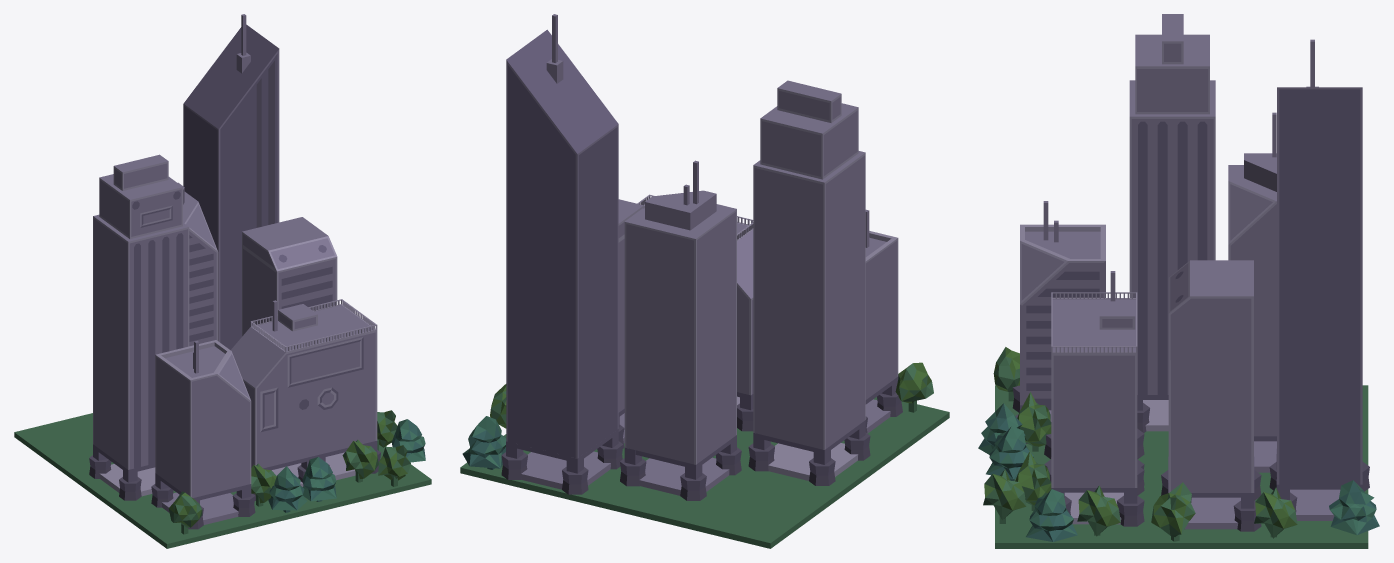
File: Apartment(deneme32).fbx
3 views of the same model, side by side, from view 1: azimuth 30°, elevation 25°; view 2: azimuth 150°, elevation 25°; view 3: azimuth 270°, elevation 25° (orthographic). The views are drawn at different scales.
Parts seen in each view (by area): view 1: Apartment2(Elevated), Apartment6(Elevated), Apartment4(Elevated), Apartment(Ground), Apartment1(Elevated), Apartment5(Elevated), Apartment3(Elevated), Apartments(SeismicIsolators); view 2: Apartment4(Elevated), Apartment2(Elevated), Apartment3(Elevated), Apartment(Ground), Apartment1(Elevated), Apartments(SeismicIsolators), Apartment6(Elevated), Apartment5(Elevated); view 3: Apartment4(Elevated), Apartment(Ground), Apartment2(Elevated), Apartment5(Elevated), Apartment6(Elevated), Apartment3(Elevated), Apartment1(Elevated), Apartments(SeismicIsolators).
Part boxes in pixels (box(x1,y1,x2,y2)): Apartment2(Elevated): box(93, 154, 189, 496); Apartment6(Elevated): box(230, 299, 377, 486); Apartment4(Elevated): box(183, 14, 279, 349); Apartment(Ground): box(14, 410, 431, 548); Apartment1(Elevated): box(155, 340, 251, 524); Apartment5(Elevated): box(242, 217, 337, 336); Apartment3(Elevated): box(178, 182, 218, 346); Apartments(SeismicIsolators): box(89, 450, 380, 529); Apartment4(Elevated): box(506, 14, 618, 489); Apartment2(Elevated): box(753, 80, 865, 480); Apartment3(Elevated): box(624, 160, 736, 495); Apartment(Ground): box(460, 362, 949, 548); Apartment1(Elevated): box(865, 209, 898, 433); Apartments(SeismicIsolators): box(501, 393, 902, 500); Apartment6(Elevated): box(637, 194, 753, 410); Apartment5(Elevated): box(618, 199, 644, 443); Apartment4(Elevated): box(1276, 39, 1362, 520); Apartment(Ground): box(978, 347, 1379, 548); Apartment2(Elevated): box(1129, 14, 1215, 431); Apartment5(Elevated): box(1168, 260, 1254, 529); Apartment6(Elevated): box(1051, 271, 1137, 524); Apartment3(Elevated): box(1228, 112, 1276, 472); Apartment1(Elevated): box(1020, 201, 1105, 421); Apartments(SeismicIsolators): box(1012, 385, 1369, 531).
Bounding box in the file's own units: 185 × 244 × 188.
